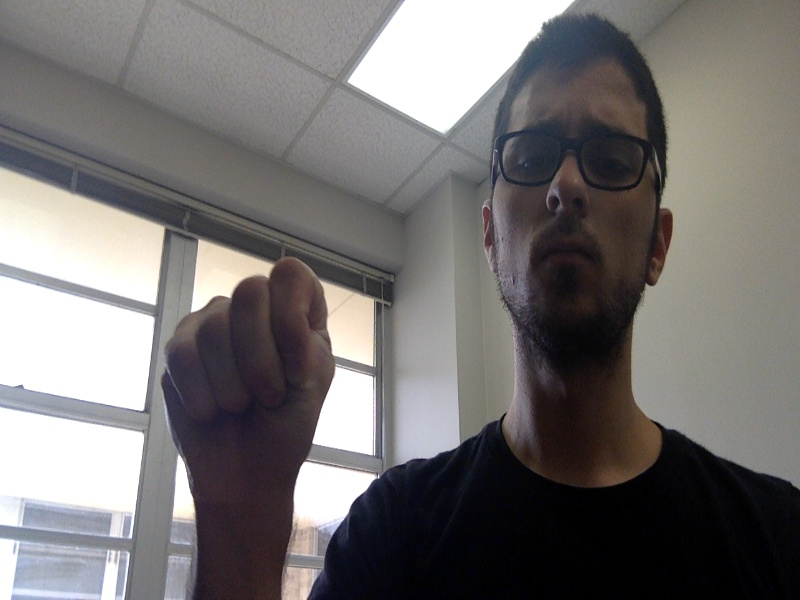0-hand: (162, 257, 336, 490)
